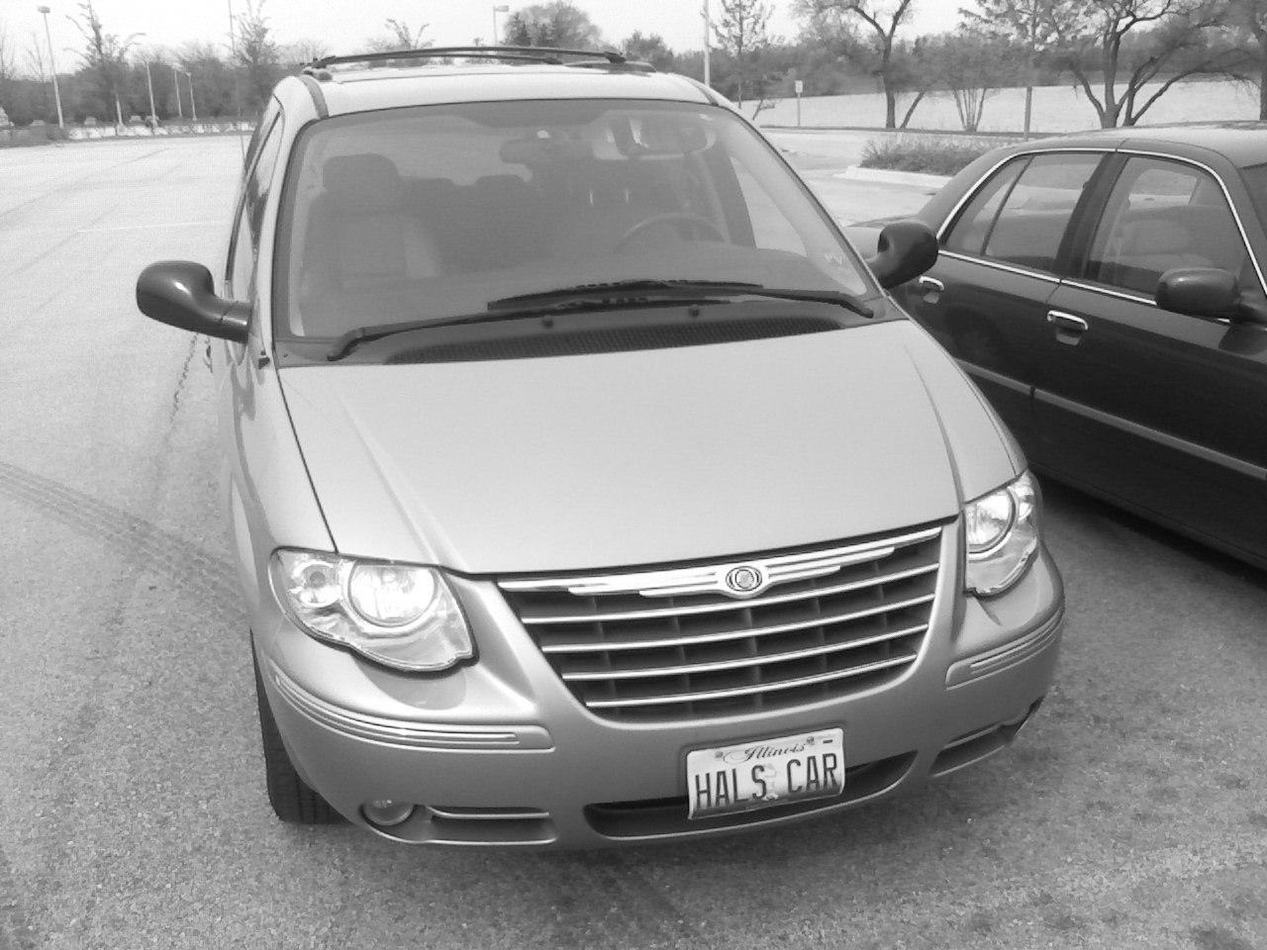car: (132, 50, 1070, 863)
